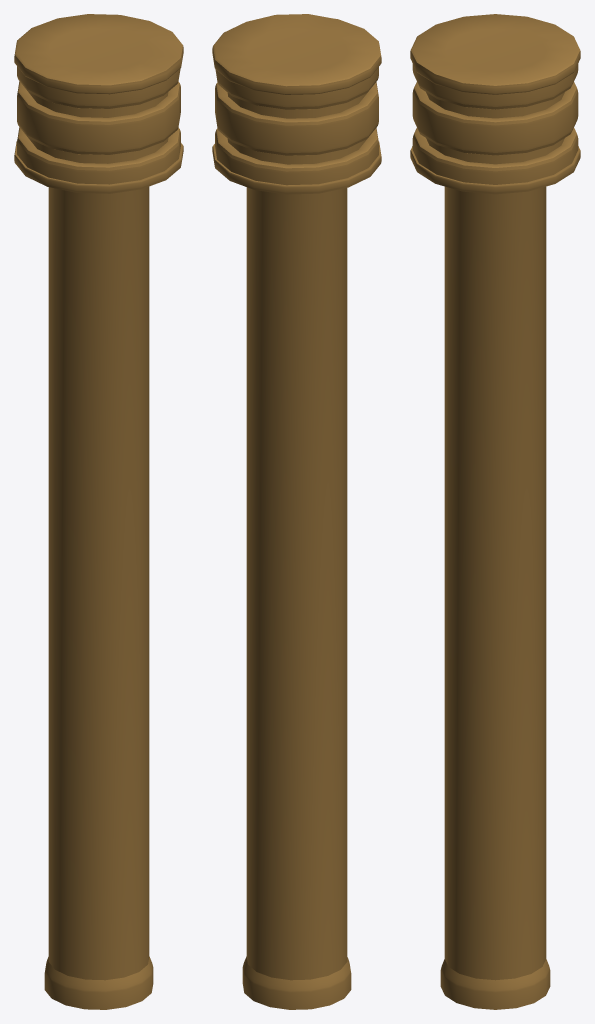
Rendered from GS_Ext_Corner_Pillar.fbx.
3 renders of one model, left to right at view 1: azimuth 30°, elevation 25°; view 2: azimuth 150°, elevation 25°; view 3: azimuth 270°, elevation 25°, orthographic.
Parts seen in each view (by area): view 1: GS_Ext_Corner_Pillar; view 2: GS_Ext_Corner_Pillar; view 3: GS_Ext_Corner_Pillar.
Boxes of the visible parts, x1=… form: GS_Ext_Corner_Pillar: x1=14, y1=14, x2=183, y2=1009; GS_Ext_Corner_Pillar: x1=212, y1=14, x2=381, y2=1009; GS_Ext_Corner_Pillar: x1=410, y1=14, x2=580, y2=1009.
Bounding box in the file's own units: 66.79 × 405 × 66.79.
